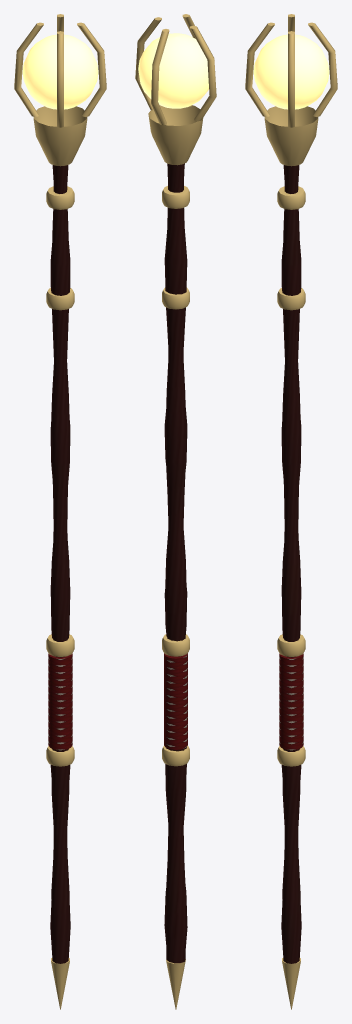
The model's file is staff.glb.
3 renders of one model, left to right at view 1: azimuth 90°, elevation 25°; view 2: azimuth 150°, elevation 25°; view 3: azimuth 270°, elevation 25°, orthographic.
Visible parts, largest first — view 1: staff; view 2: staff; view 3: staff.
Part boxes in pixels (left/top/right/bottom): staff: left=14, top=14, right=106, bottom=1009; staff: left=135, top=14, right=216, bottom=1009; staff: left=245, top=14, right=337, bottom=1009.
Bounding box in the file's own units: 0.186 × 2.16 × 0.1839.
Materials: 4 (2 with a texture image).
